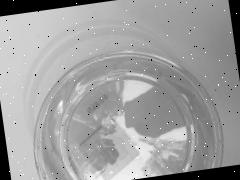plastic: (0, 13, 240, 180)
